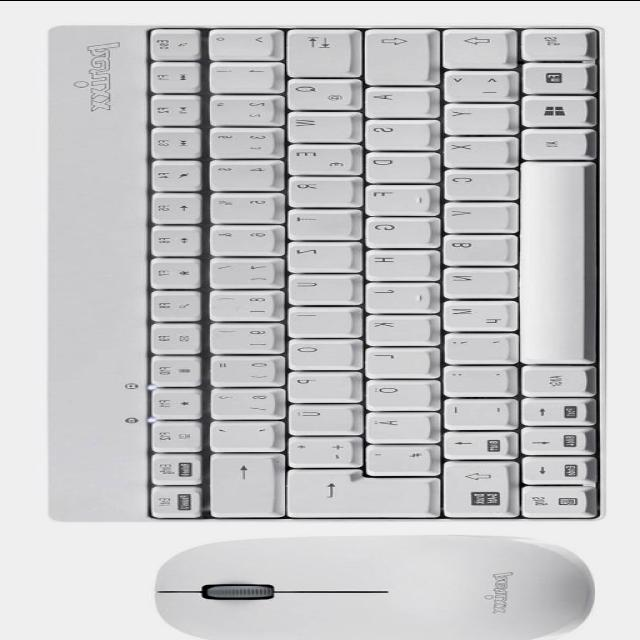0: (203, 354, 279, 384)
1: (202, 60, 277, 91)
2: (202, 93, 277, 123)
3: (202, 125, 277, 156)
4: (201, 158, 275, 188)
5: (203, 190, 277, 220)
6: (203, 223, 277, 253)
7: (203, 256, 278, 286)
8: (203, 288, 278, 319)
9: (203, 321, 278, 351)
a: (356, 85, 430, 115)
accent: (202, 419, 277, 449)
ae: (358, 410, 432, 440)
alt-left: (514, 126, 588, 158)
altgr-right: (514, 363, 588, 393)
b: (435, 231, 510, 263)
c: (435, 167, 510, 199)
caret: (202, 26, 277, 57)
comma: (437, 330, 512, 361)
d: (358, 149, 432, 179)
del: (201, 451, 275, 516)
e: (279, 141, 355, 172)
enter: (279, 464, 435, 516)
f: (358, 182, 432, 212)
g: (358, 214, 432, 244)
h: (358, 248, 430, 278)
hash: (358, 442, 434, 473)
i: (280, 305, 351, 335)
j: (358, 280, 432, 310)
k: (358, 313, 430, 343)
keyboard: (130, 20, 610, 525)
l: (358, 346, 430, 374)
less: (435, 68, 510, 100)
m: (435, 297, 513, 329)
minus: (435, 396, 510, 428)
n: (435, 265, 510, 296)
o: (280, 337, 352, 367)
oe: (358, 377, 432, 407)
p: (280, 369, 352, 399)
plus: (280, 434, 354, 464)
point: (435, 363, 509, 394)
q: (279, 76, 354, 108)
r: (280, 174, 354, 204)
s: (357, 117, 432, 147)
shift-left: (434, 26, 509, 66)
shift-lock: (356, 27, 430, 83)
shift-right: (434, 459, 513, 518)
space: (513, 158, 588, 362)
ss: (203, 385, 279, 416)
strg-left: (514, 26, 588, 58)
strg-right: (519, 485, 593, 516)
t: (279, 207, 353, 237)
tab: (279, 26, 351, 74)
u: (280, 272, 354, 302)
ue: (280, 402, 355, 432)
v: (435, 200, 510, 230)
w: (279, 110, 353, 140)
x: (435, 134, 509, 166)
y: (435, 101, 510, 132)
z: (279, 239, 354, 270)
